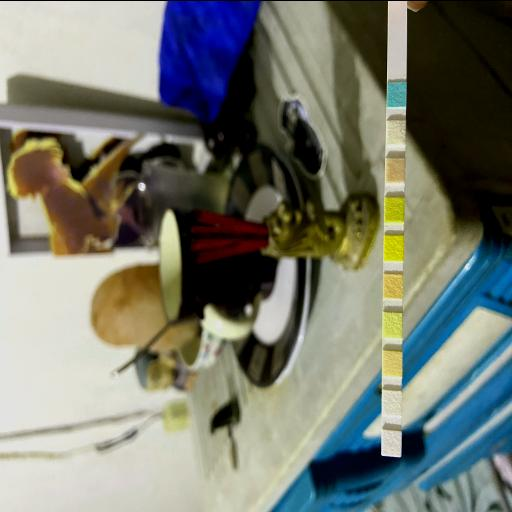Bilirubin: (388, 121, 406, 143)
Blood: (386, 236, 404, 258)
Glucose: (388, 83, 406, 105)
Ketone: (386, 159, 404, 181)
Leukocytes: (383, 431, 401, 454)
Nitrite: (383, 391, 401, 414)
Protein: (384, 312, 402, 336)
SpGravity: (386, 198, 404, 220)
Urobilinogen: (384, 352, 402, 374)
pH: (384, 275, 402, 297)
strip: (381, 0, 407, 456)
